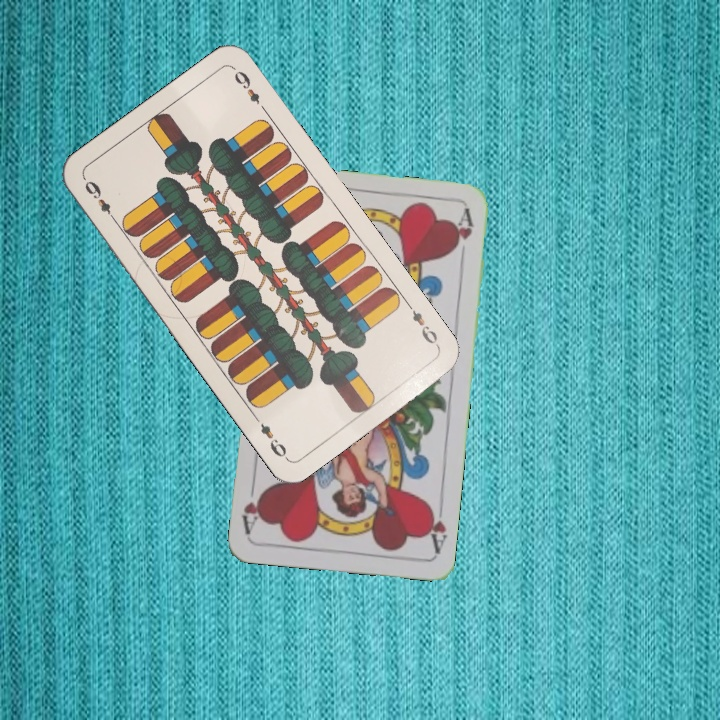E9: (402, 298, 442, 350), (80, 175, 120, 226)
HA: (422, 496, 449, 555)
